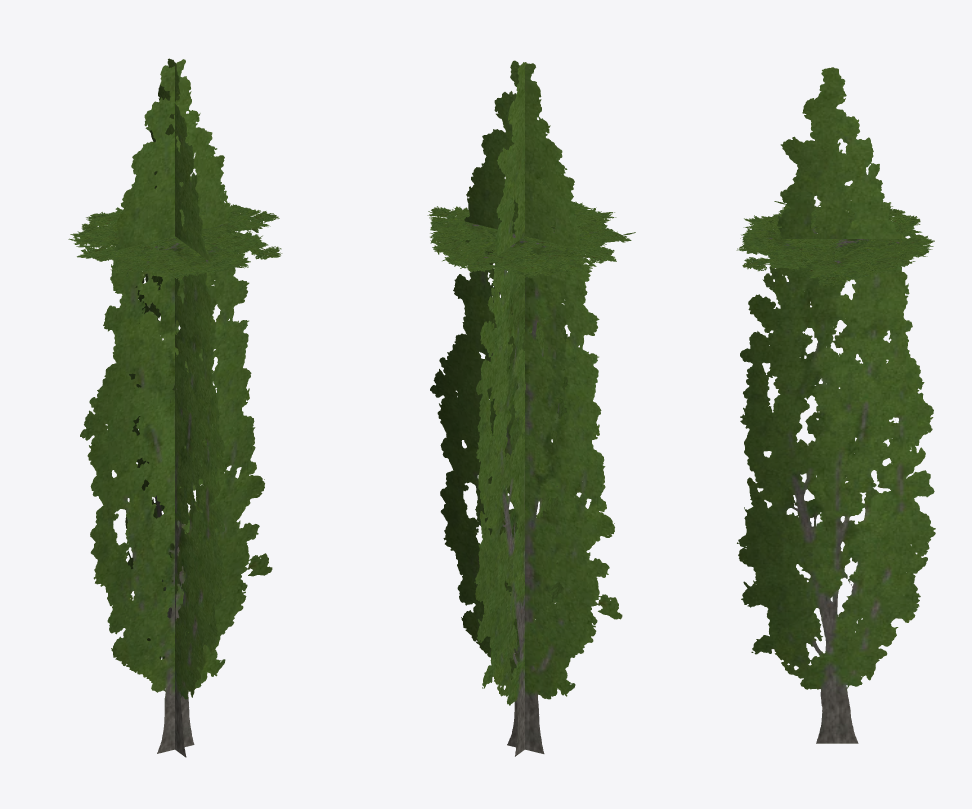
Rendered from arbre_peuplier_lod2.glb.
The picture shows the model from 3 angles, left to right: view 1: azimuth 30°, elevation 25°; view 2: azimuth 150°, elevation 25°; view 3: azimuth 270°, elevation 25°; orthographic projection.
Parts seen in each view (by area): view 1: arbre_peuplier_lod2; view 2: arbre_peuplier_lod2; view 3: arbre_peuplier_lod2.
Boxes of the visible parts, box(x1,y1,x2,y2) form: arbre_peuplier_lod2: box(68, 58, 282, 757); arbre_peuplier_lod2: box(427, 60, 635, 756); arbre_peuplier_lod2: box(736, 67, 935, 743).
Bounding box in the file's own units: 5.02 × 15.44 × 5.02.
1 material, 1 textured.
